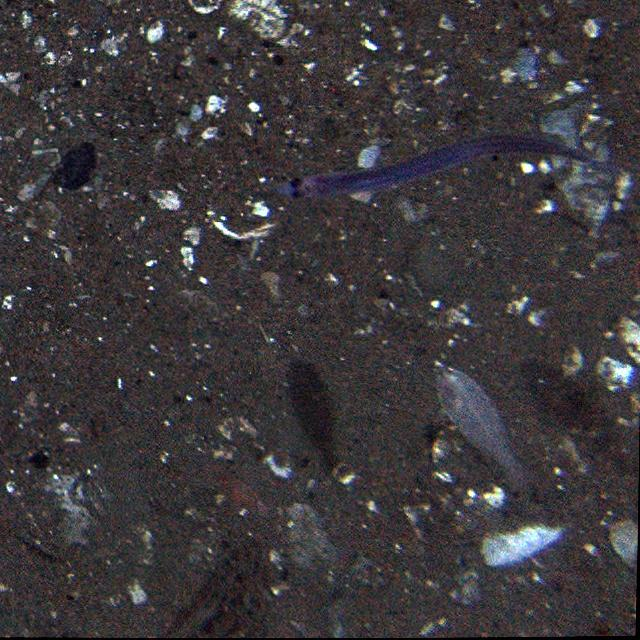flatfish: (432, 358, 537, 504)
